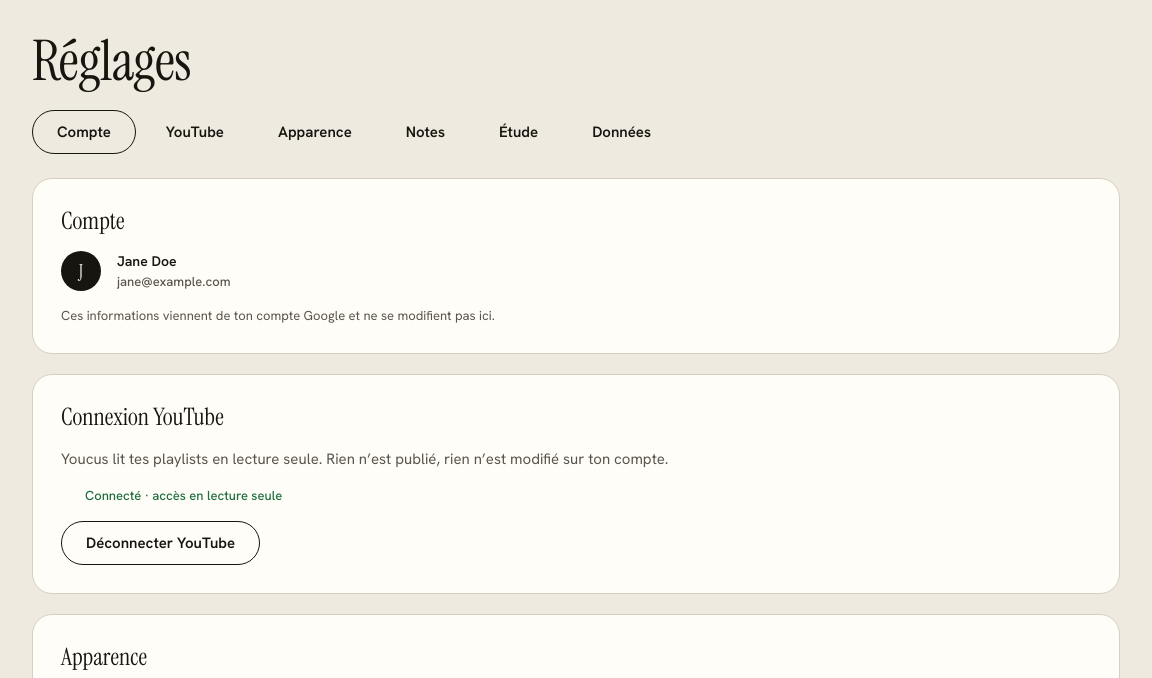
Test case: SettingsPage › Google did not confirm the revocation: the card says where to check
Click the button "Déconnecter YouTube".
click(161, 543)  # box [61,521,260,565]
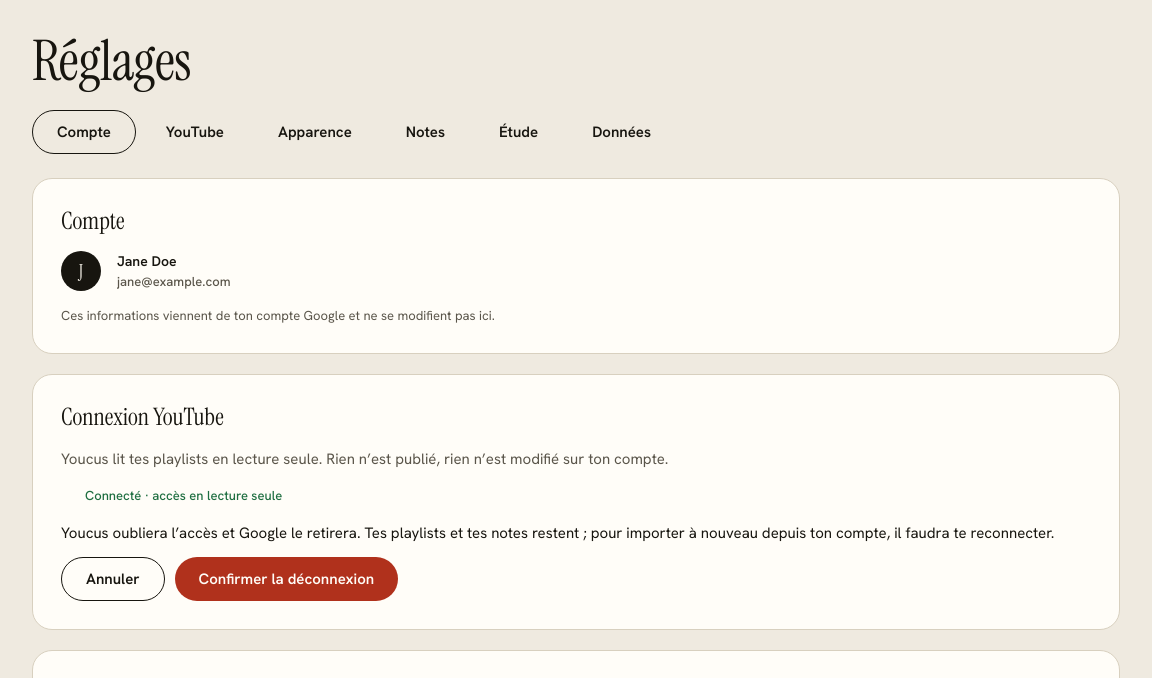
Click the button "Confirmer la déconnexion".
click(286, 579)  # box [175,557,398,601]
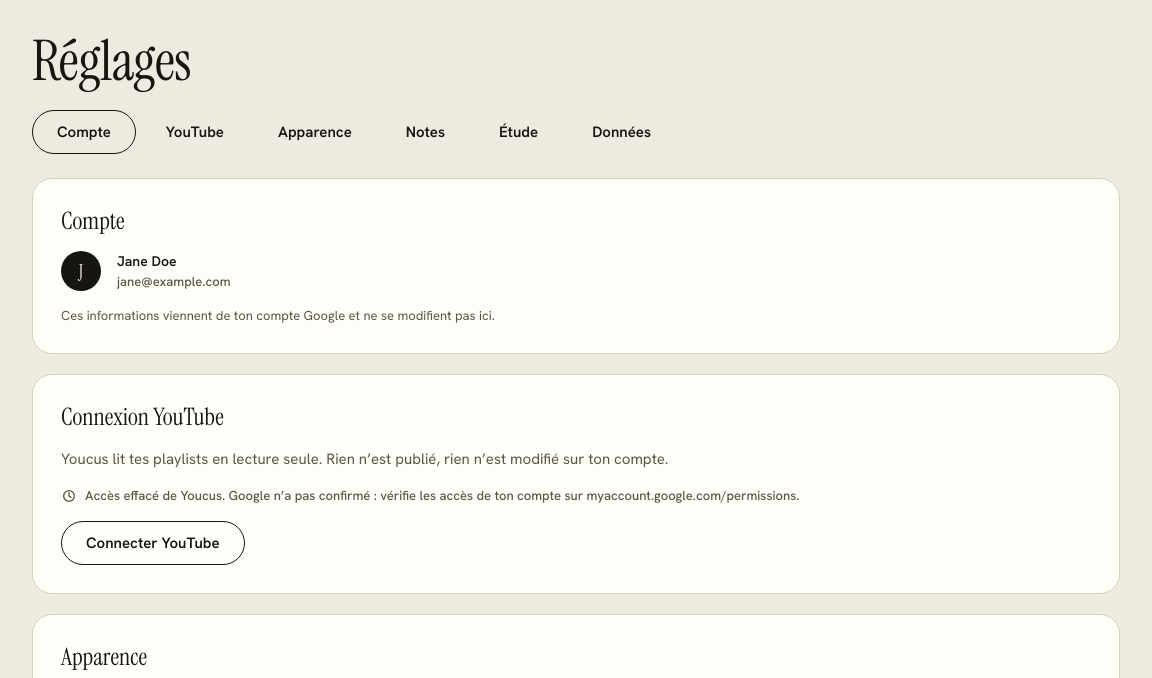
Expected: the text "Google n’a pas confirmé" is shown, [85,487,800,504]
